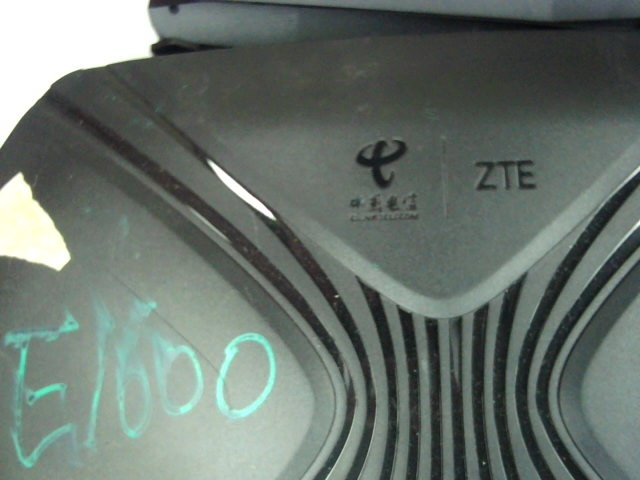AX_ZTEChinaTelecom: (342, 137, 540, 225)
